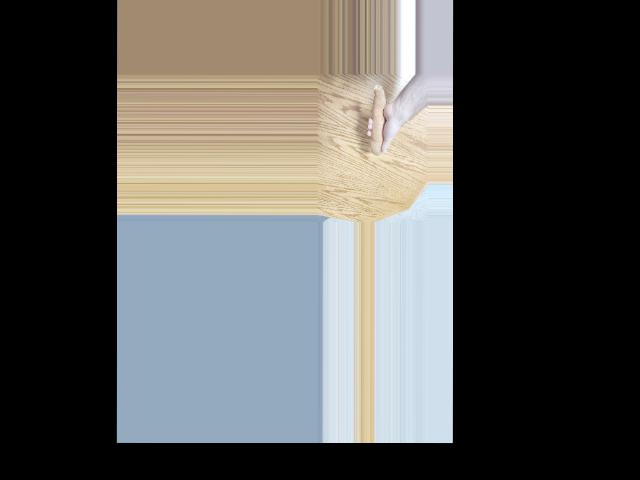sweet_potato: (367, 83, 390, 160)
